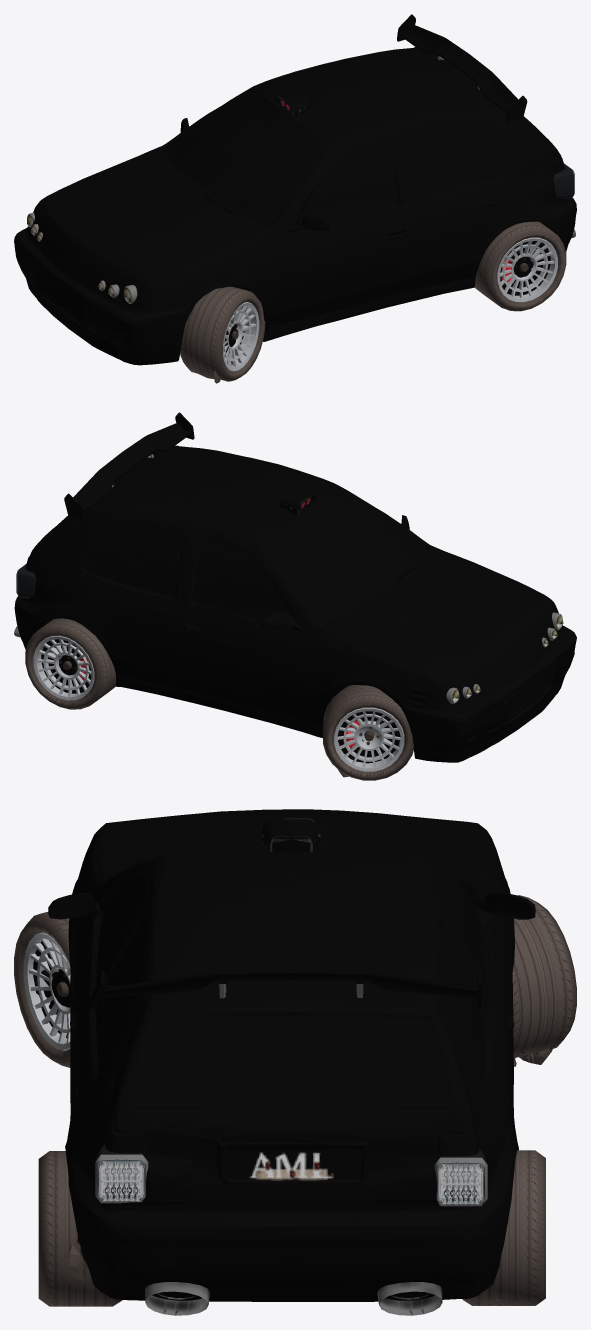
Rendered from COCHE AML333 TERMINADO PARA JUEGO.glb.
3 renders of one model, top to bottom at view 1: azimuth 30°, elevation 25°; view 2: azimuth 150°, elevation 25°; view 3: azimuth 270°, elevation 25°, orthographic. The views are drawn at different scales.
Parts seen in each view (by area): view 1: node_id29, node_id582, node_id150, node_id523, node_id527, node_id578, node_id525, node_id580, node_id146, node_id136, node_id286; view 2: node_id29, node_id560, node_id542, node_id150, node_id546, node_id564, node_id562, node_id544, node_id146, node_id136, node_id355; view 3: node_id29, node_id564, node_id546, node_id527, node_id150, node_id578, node_id629, node_id288, node_id357, node_id580, node_id136, node_id582.
Part boxes in pixels (box(x1,y1,x2,y2)): node_id29: box(14, 47, 576, 383); node_id582: box(180, 286, 259, 381); node_id150: box(400, 25, 518, 114); node_id523: box(497, 237, 557, 302); node_id527: box(475, 221, 566, 311); node_id578: box(223, 302, 259, 371); node_id525: box(493, 233, 565, 309); node_id580: box(221, 296, 265, 378); node_id146: box(397, 14, 527, 122); node_id136: box(275, 92, 310, 117); node_id286: box(553, 163, 573, 198); node_id29: box(14, 445, 576, 777); node_id560: box(334, 707, 404, 771); node_id542: box(33, 635, 94, 700); node_id150: box(73, 422, 191, 512); node_id546: box(25, 618, 115, 709); node_id564: box(323, 685, 413, 780); node_id562: box(327, 703, 410, 778); node_id544: box(26, 631, 97, 707); node_id146: box(64, 412, 194, 520); node_id136: box(280, 490, 315, 515); node_id355: box(17, 564, 36, 598); node_id29: box(33, 809, 554, 1301); node_id564: box(512, 895, 576, 1057); node_id546: box(462, 1150, 545, 1305); node_id527: box(38, 1151, 122, 1306); node_id150: box(104, 970, 477, 997); node_id578: box(23, 932, 70, 1050); node_id629: box(145, 1282, 442, 1315); node_id288: box(97, 1159, 145, 1201); node_id357: box(437, 1162, 484, 1204); node_id580: box(14, 923, 70, 1062); node_id136: box(261, 818, 320, 851); node_id582: box(21, 912, 70, 1067).
Size of the model in its own units: 0.8882 by 0.3604 by 0.5405.
26 materials, 26 textured.
